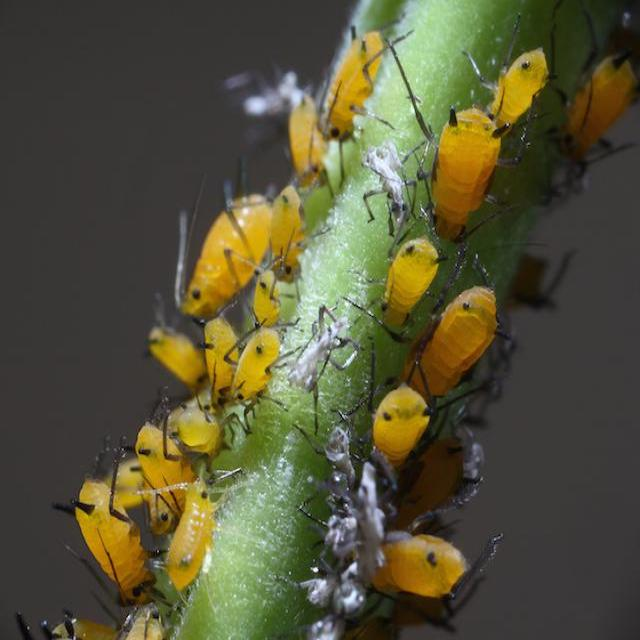Aphids: (61, 467, 160, 623), (308, 23, 412, 171), (406, 267, 507, 410), (168, 188, 279, 314), (402, 101, 508, 232), (142, 466, 221, 604), (358, 238, 450, 340), (381, 529, 481, 612), (129, 421, 200, 535), (561, 52, 640, 154), (219, 322, 292, 418), (486, 42, 551, 128), (146, 324, 201, 391), (200, 317, 242, 403), (271, 186, 306, 279), (288, 105, 325, 180)
